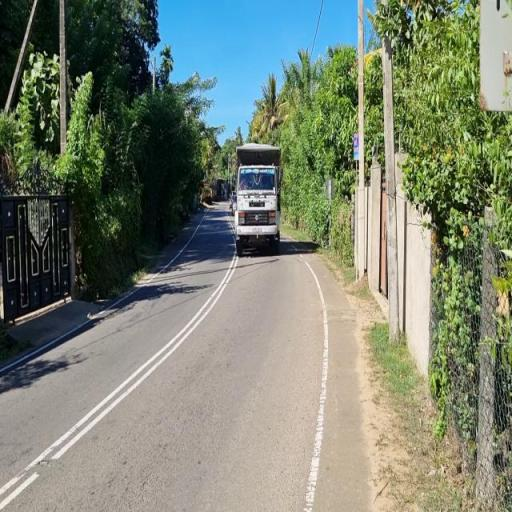double_white_line: (0, 253, 238, 509)
